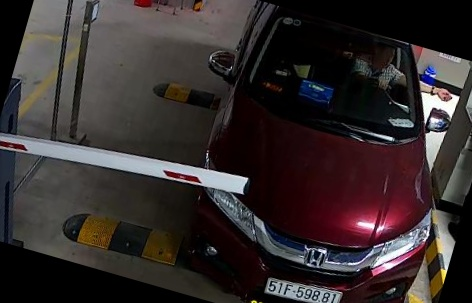plate: (261, 274, 347, 302)
